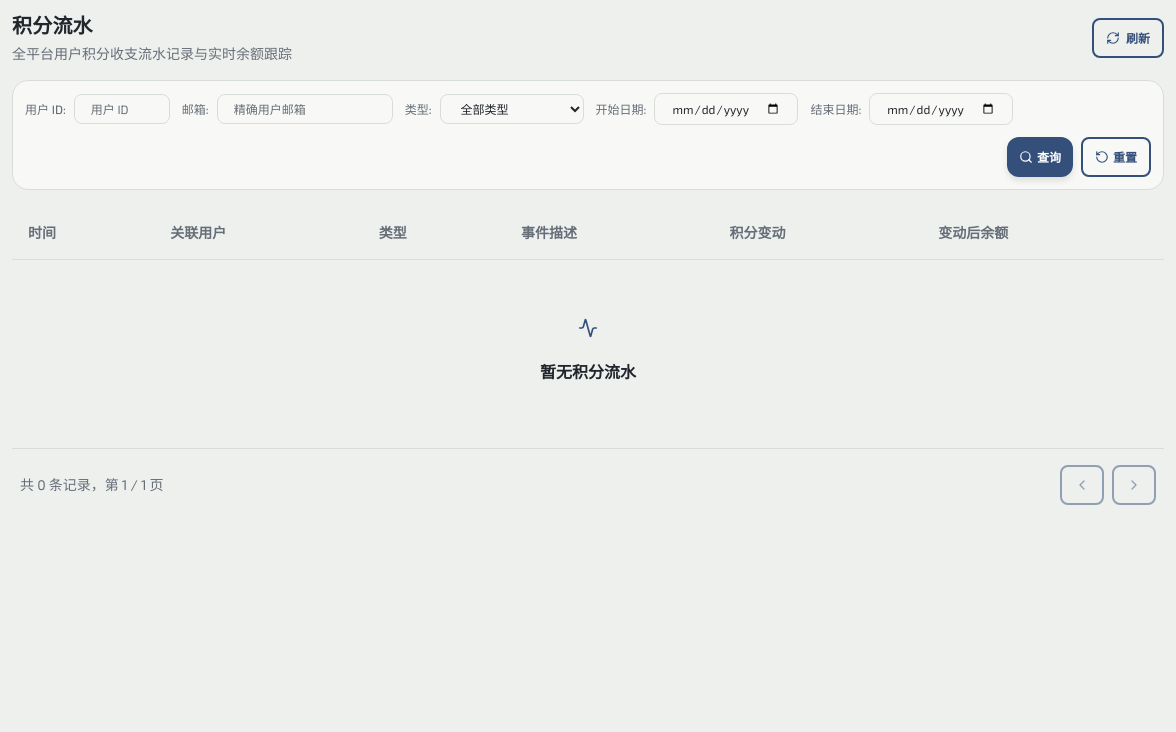
Test: AdminPointLogPanel › validates form inputs and prevents search when invalid
Expected: the text "暂无积分流水" is shown, x1=540 y1=360 x2=636 y2=384
Note: Input invalid email
Type "not-an-email" into the field with test id "admin-point-logs-email-filter" at [305, 109], box x1=217 y1=94 x2=393 y2=124
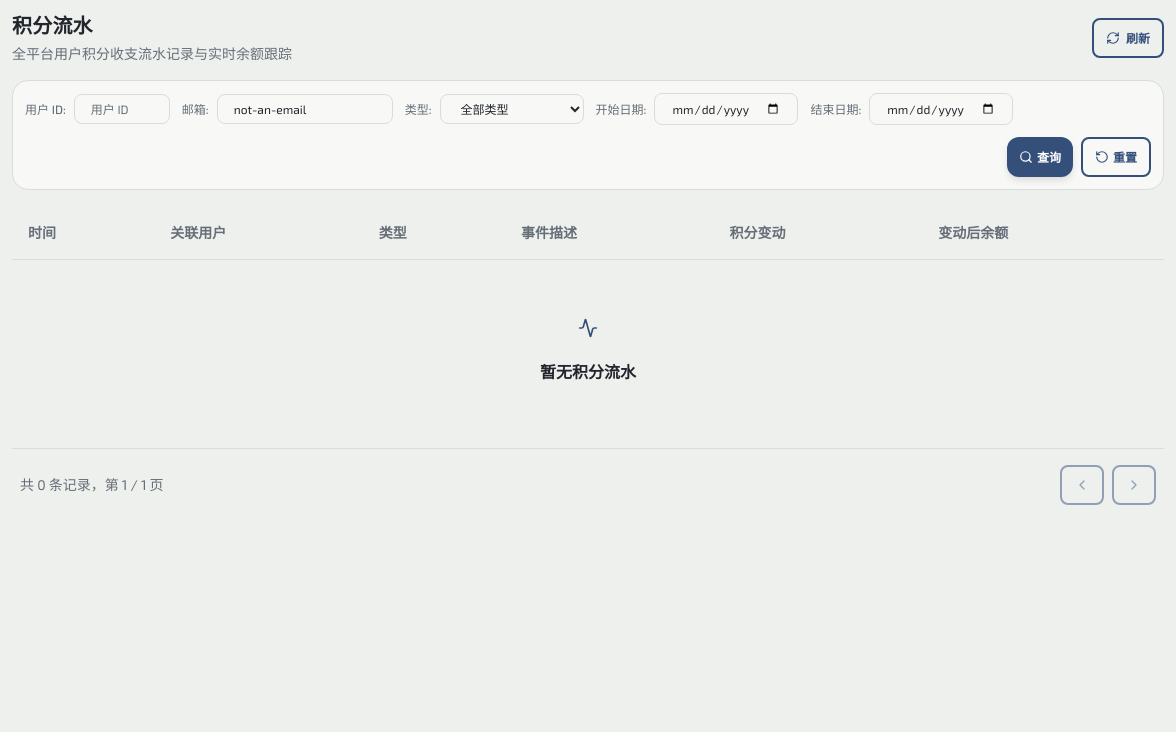
Click the button with test id "admin-point-logs-search-button" at [1040, 157], box x1=1007 y1=137 x2=1073 y2=177
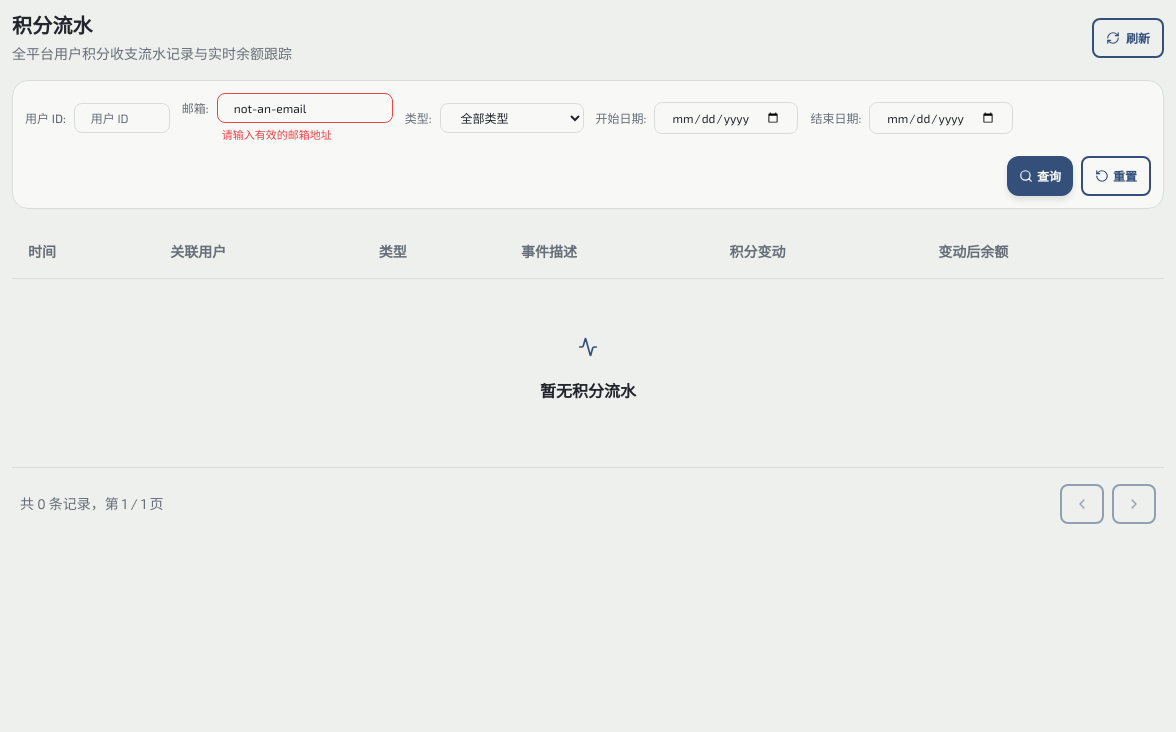
Expected: the text with test id "admin-point-logs-email-error" reads "请输入有效的邮箱地址", x1=222 y1=128 x2=332 y2=141
Note: Fix email, input invalid date range
Replace the text in the field with test id "admin-point-logs-email-filter" with "valid@example.com" at [305, 108], box x1=217 y1=93 x2=393 y2=123
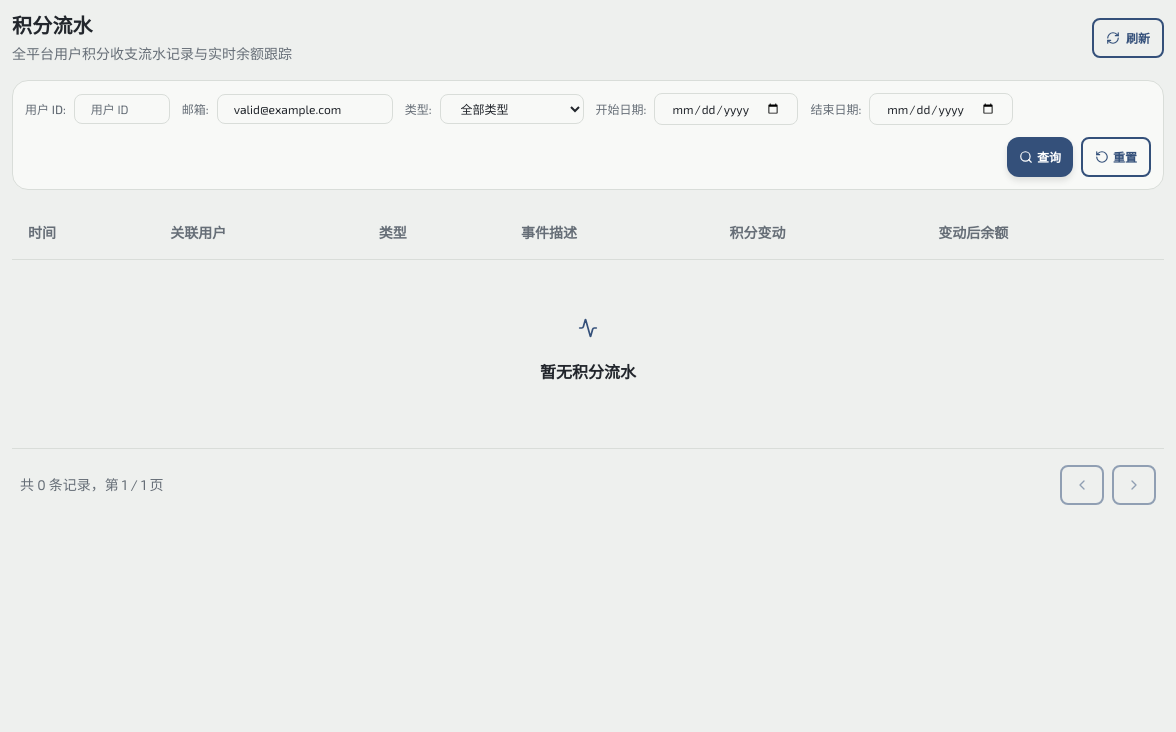
Type "2026-09-05" into the date field with test id "admin-point-logs-from-filter" at [726, 109], box x1=654 y1=93 x2=798 y2=125
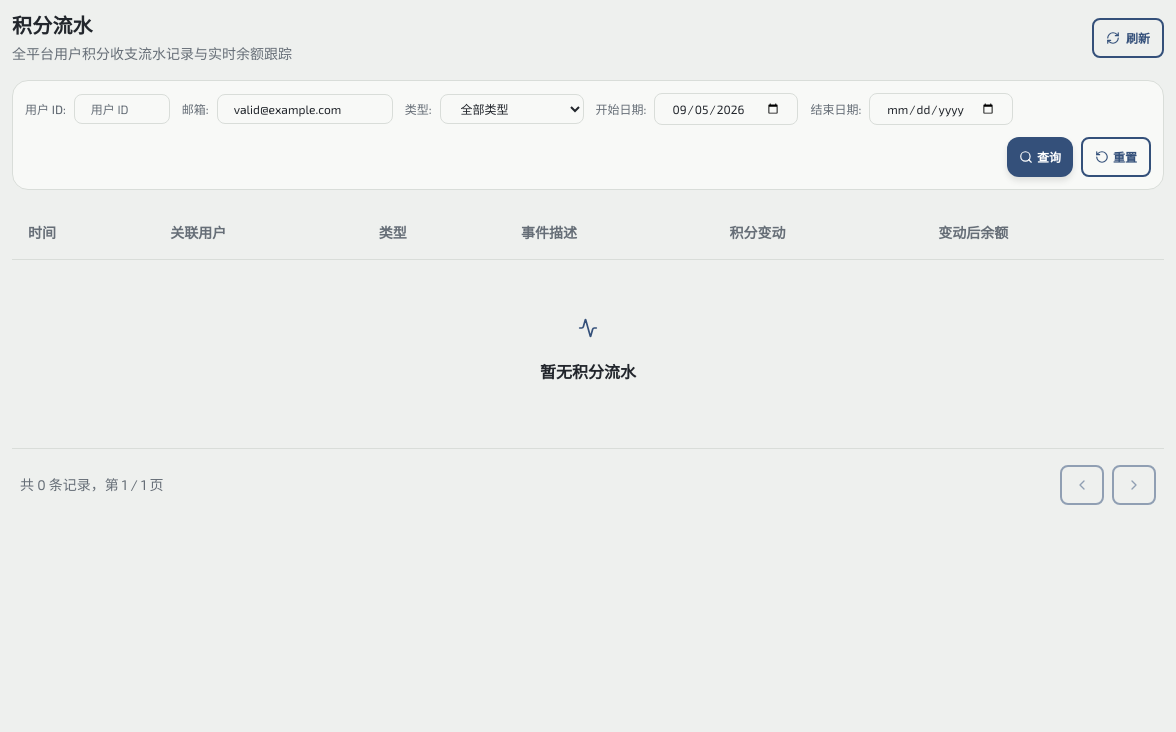
Type "2026-09-04" into the date field with test id "admin-point-logs-to-filter" at [941, 109], box x1=869 y1=93 x2=1013 y2=125
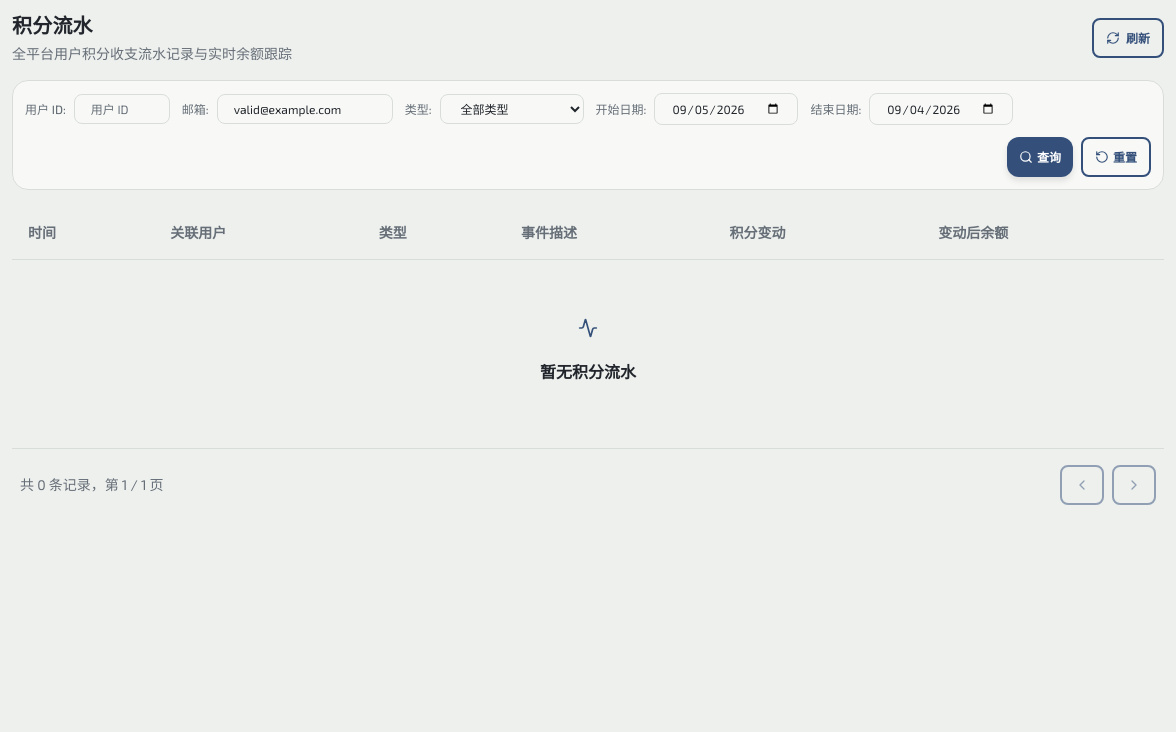
Click the button with test id "admin-point-logs-search-button" at [1040, 157], box x1=1007 y1=137 x2=1073 y2=177
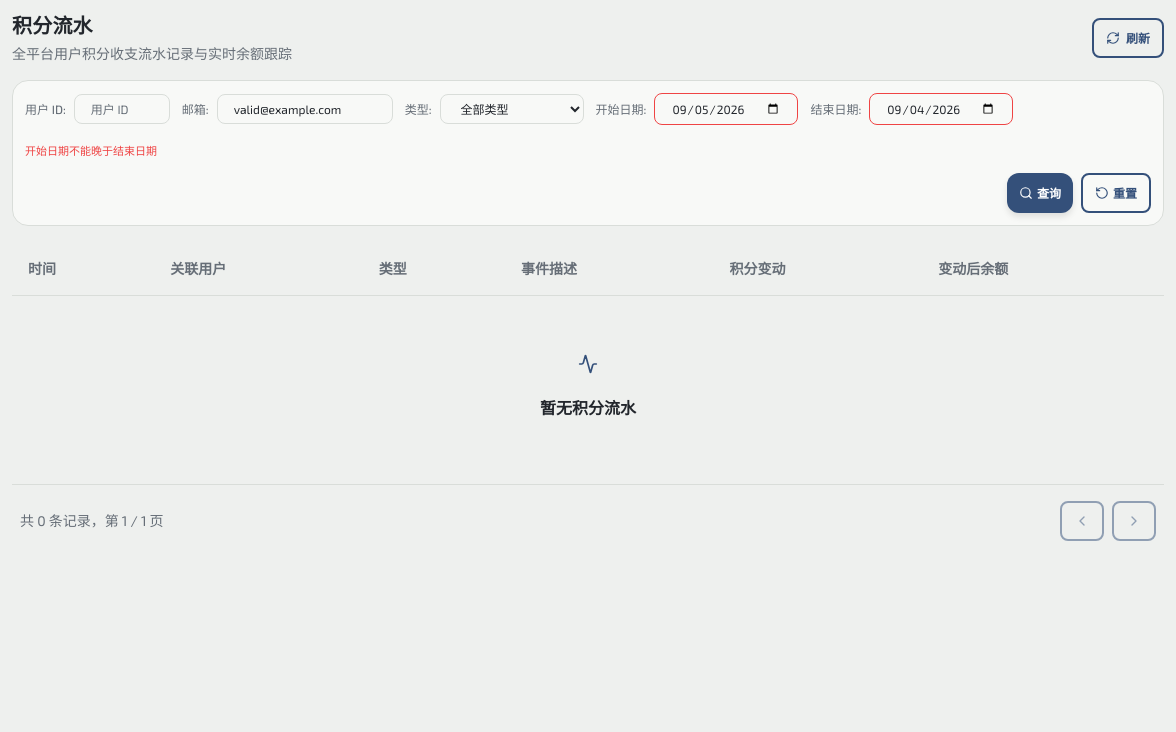
Expected: the text with test id "admin-point-logs-date-error" reads "开始日期不能晚于结束日期", x1=25 y1=144 x2=157 y2=157
